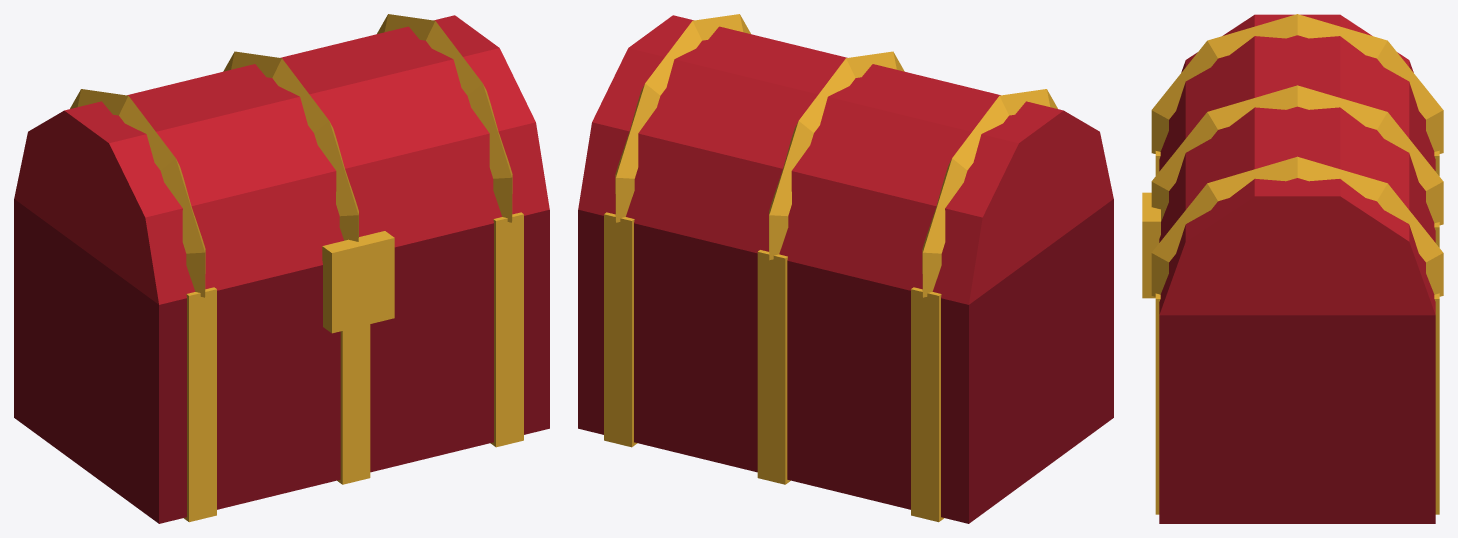
File: TreasureChest.fbx
The picture shows the model from 3 angles, left to right: view 1: azimuth 30°, elevation 25°; view 2: azimuth 150°, elevation 25°; view 3: azimuth 270°, elevation 25°; orthographic projection. The views are drawn at different scales.
Parts seen in each view (by area): view 1: TreasureChest; view 2: TreasureChest; view 3: TreasureChest.
Boxes of the visible parts, x1,y1,x2,y2 form: TreasureChest: [14, 14, 549, 523]; TreasureChest: [578, 14, 1113, 523]; TreasureChest: [1142, 14, 1443, 523].
Size of the model in its own units: 280 by 253 by 196.
Materials: 1 (1 with a texture image).
